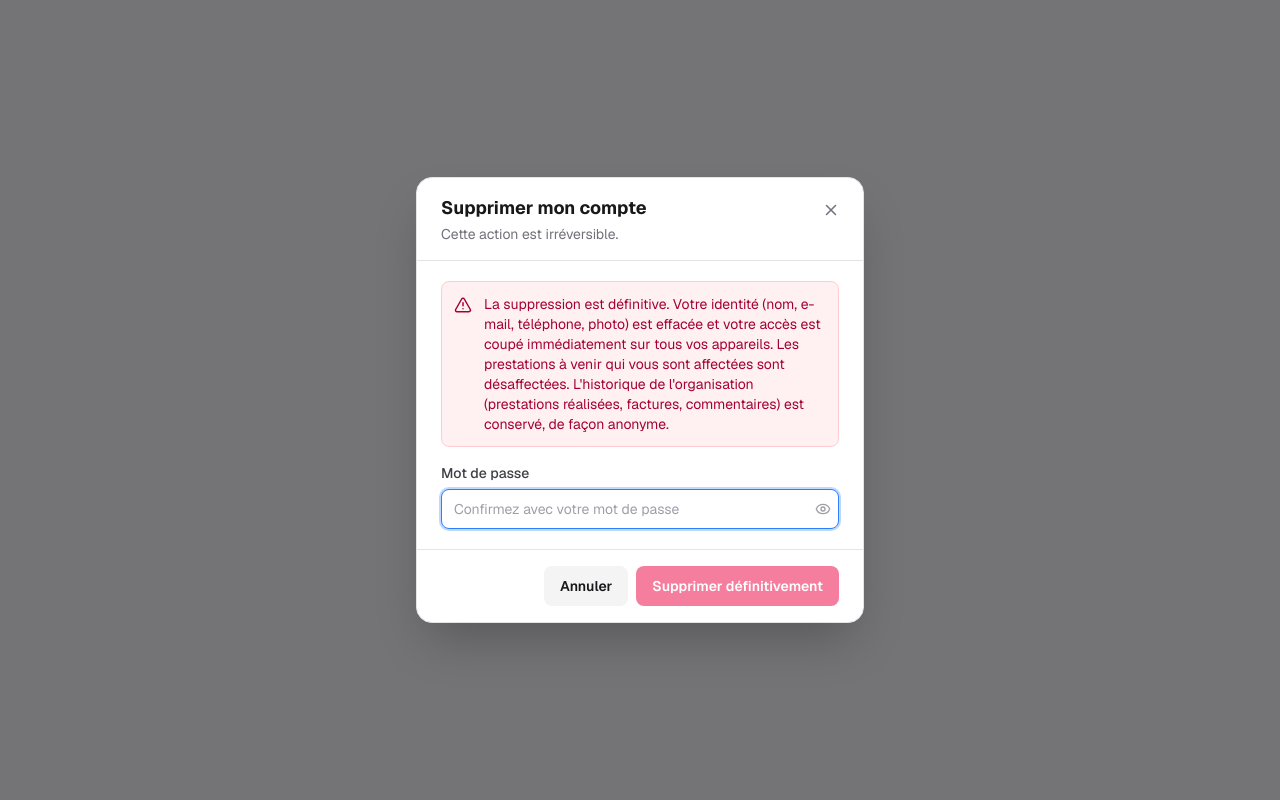
Scenario: DeleteAccountModal › 401 → « Mot de passe incorrect », sans déconnexion
Type "oups" into the password field labelled "Mot de passe".
click(640, 509); type("oups")  # box [441, 489, 839, 529]
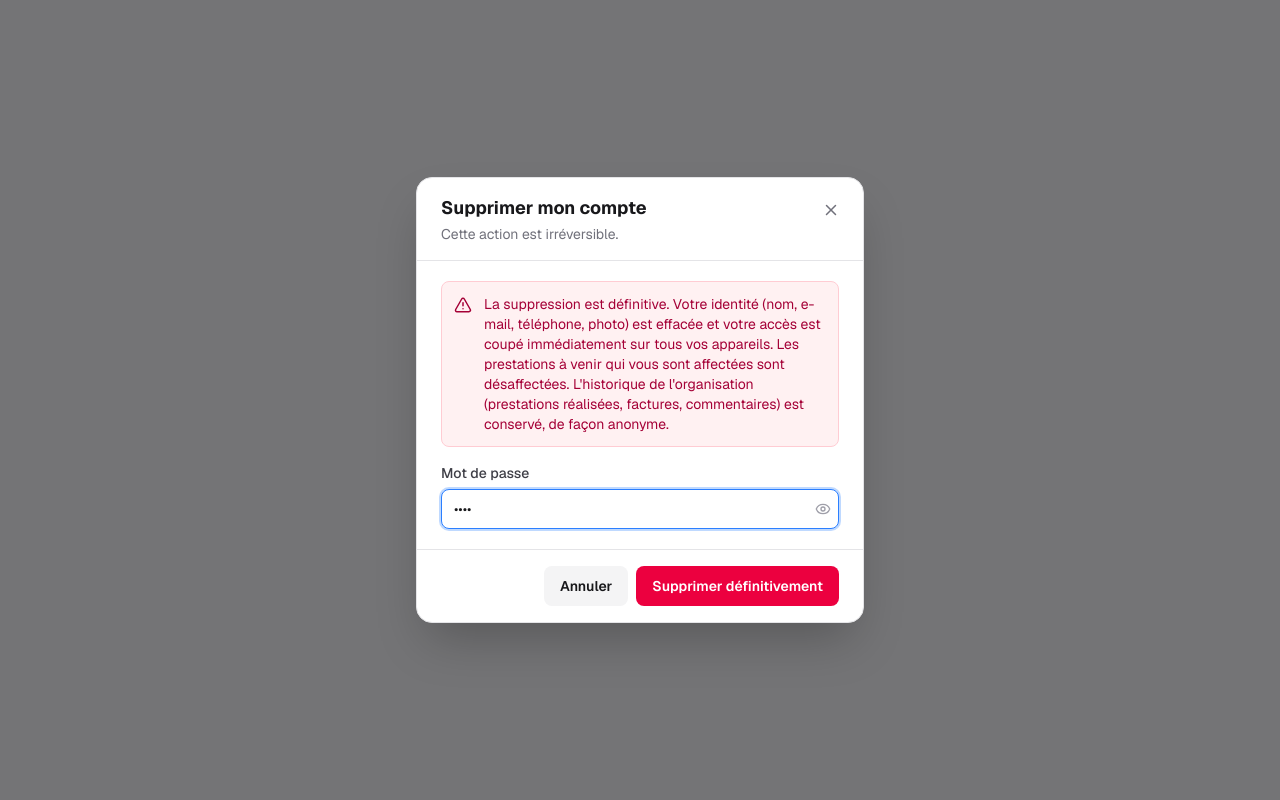
Click the button "Supprimer définitivement".
click(738, 586)  # box [636, 566, 839, 606]
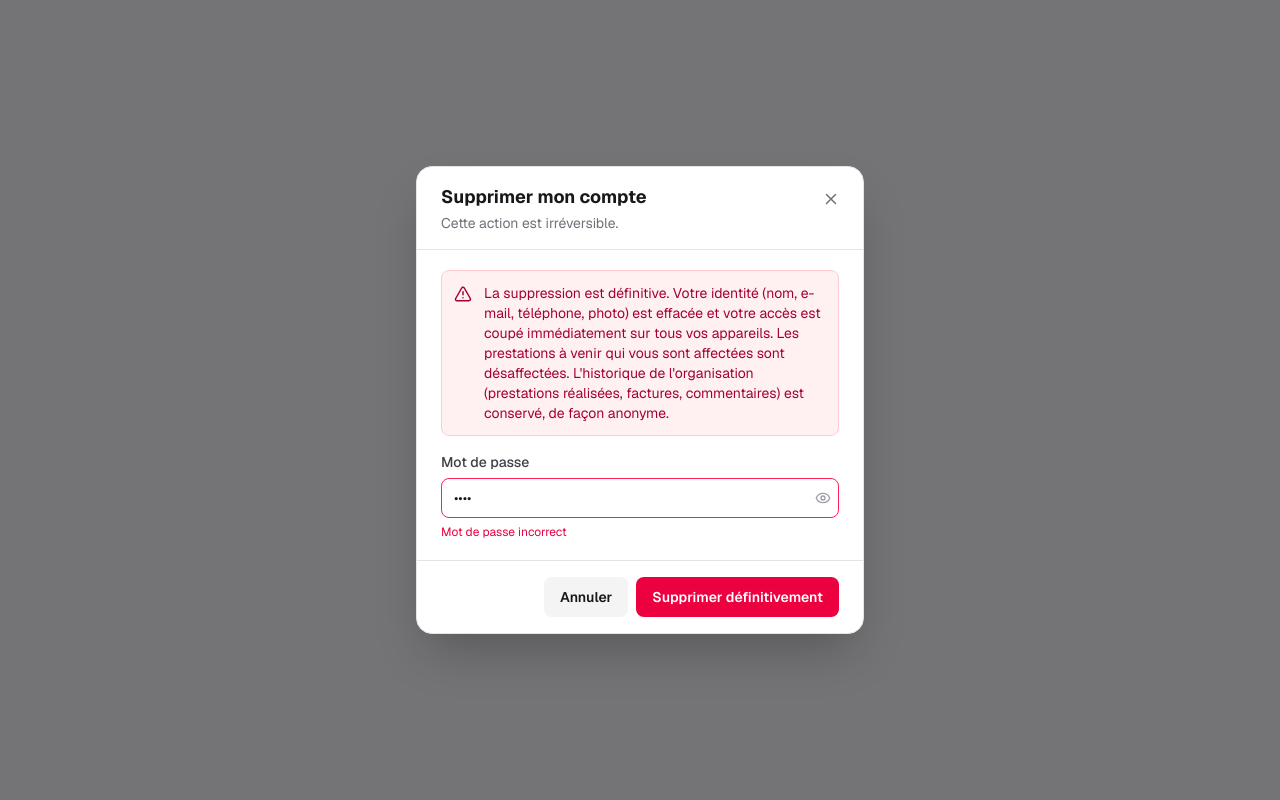
Expected: the text "Mot de passe incorrect" is shown, [441, 524, 567, 540]
